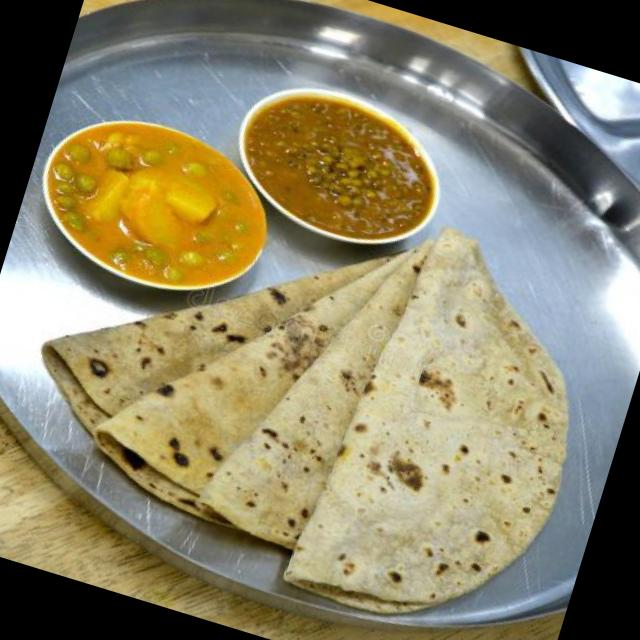roti: (39, 221, 569, 615)
